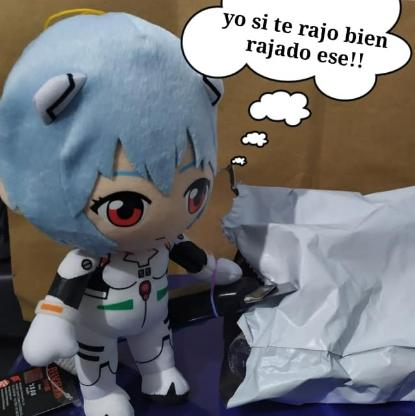rei-plush: (0, 11, 239, 415)
